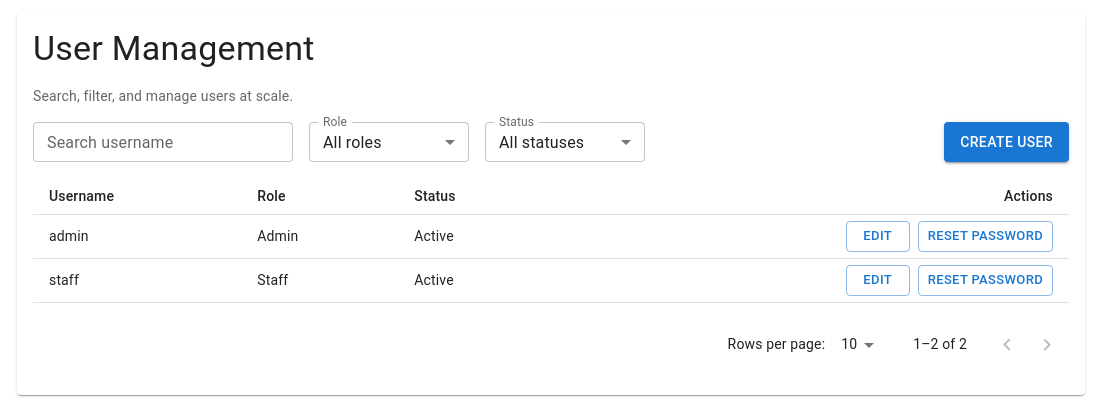
Test: AdminUsersPage › renders paginated user table and supports search
Expected: the text "admin" is shown, top-left (33, 214), bottom-right (241, 258)
Expected: the text "staff" is shown, top-left (33, 258), bottom-right (241, 302)
In the field labelled "Search username": (163, 142) top-left (33, 122), bottom-right (293, 162), type "adm"
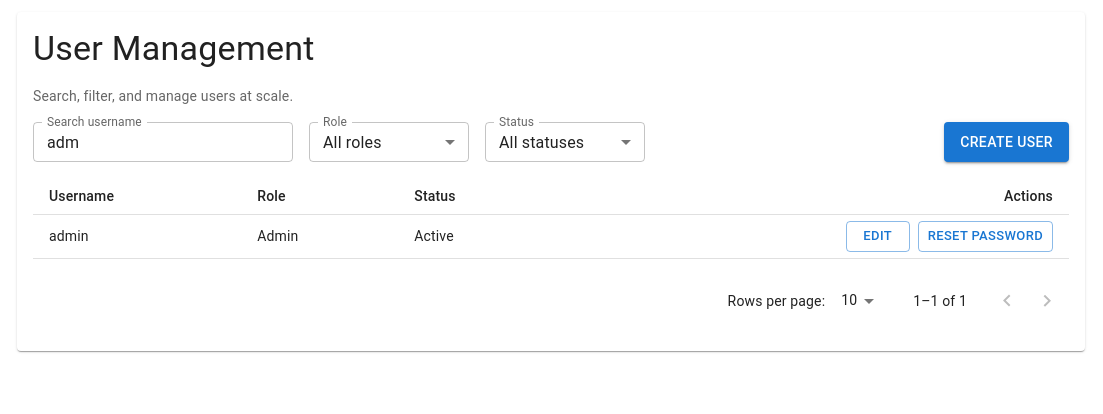
Expected: the text "admin" is shown, top-left (33, 214), bottom-right (241, 258)
Result: the text "staff" is gone
